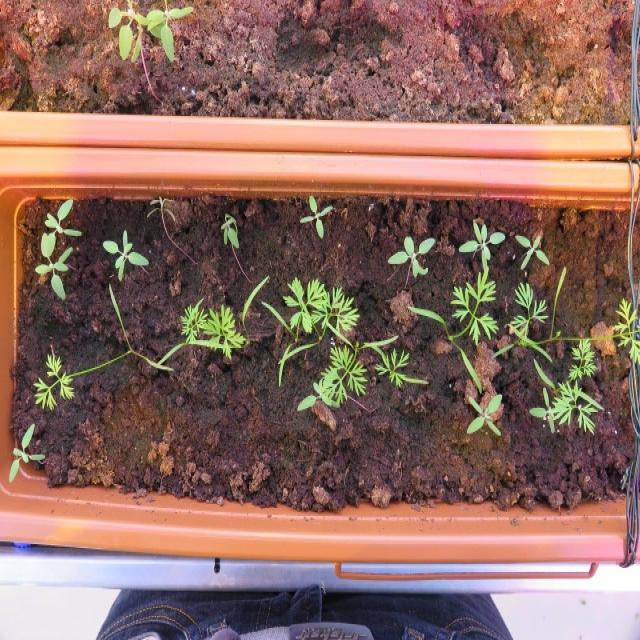weed: (4, 413, 49, 484), (99, 220, 150, 280), (383, 229, 436, 280), (294, 187, 335, 240), (511, 225, 549, 275)
